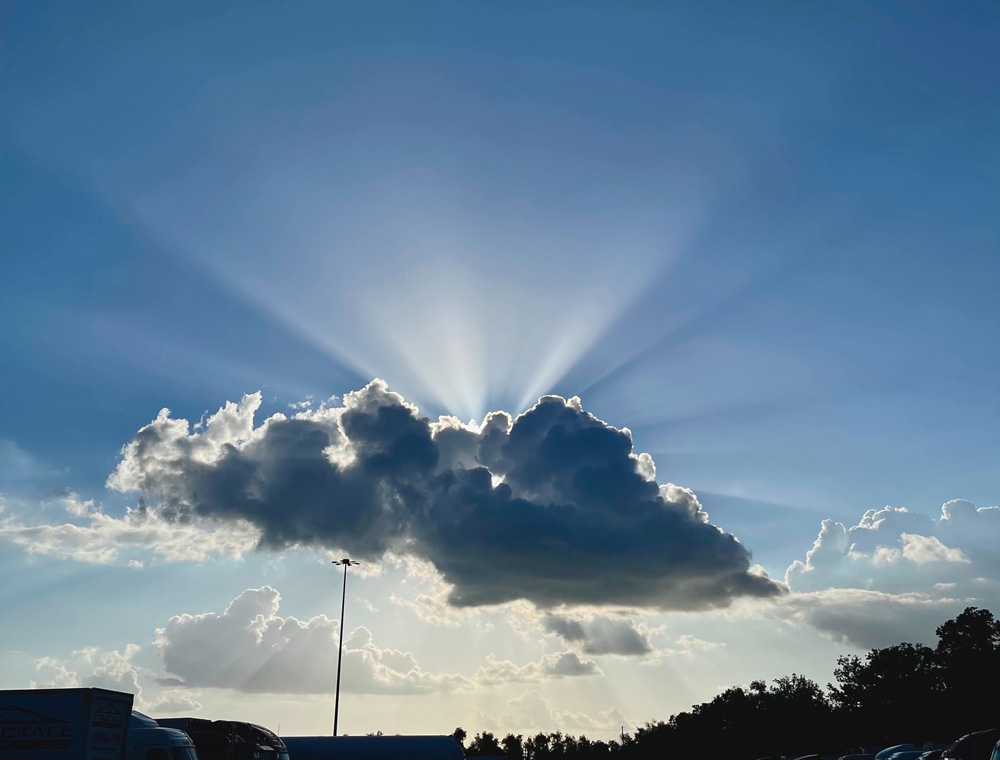Cumulus: (109, 354, 785, 622), (136, 560, 469, 710), (763, 472, 1000, 646)
